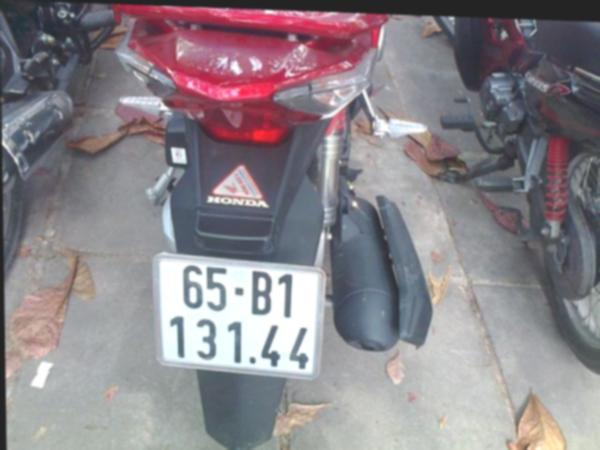License_Plate: (154, 256, 319, 379)
